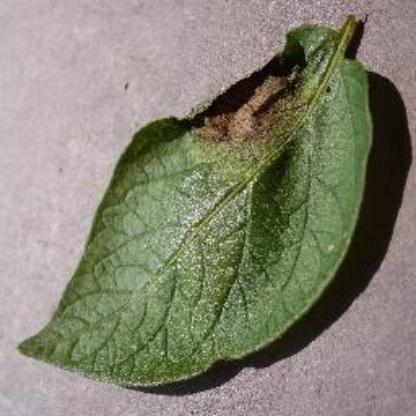Late-Blight: (13, 13, 380, 389)
